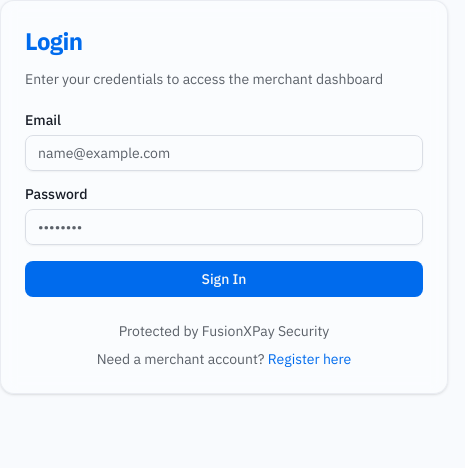
Test: LoginForm › shows validation error for invalid email
Step 1. Type "invalid-email" into the field labelled "Email" → (224,153), box [25, 135, 423, 171]
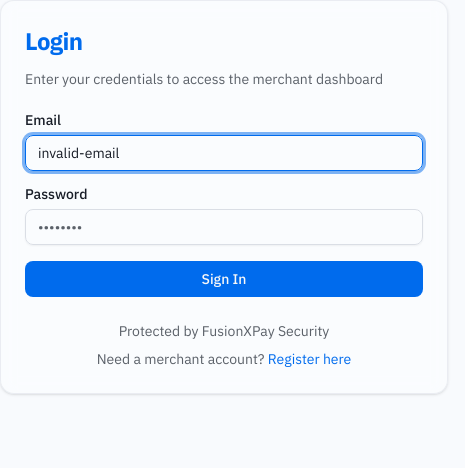
Step 2. Click the button "Sign In" → (224,279), box [25, 261, 423, 297]
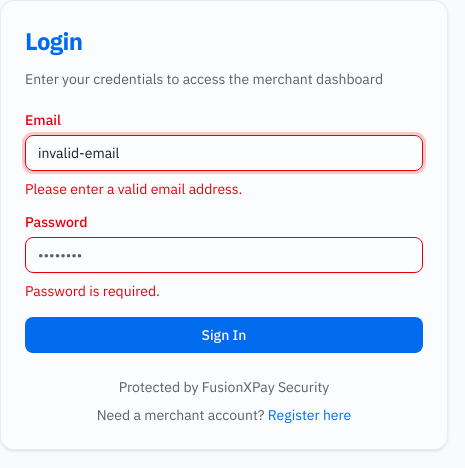
Expected: the text "Please enter a valid email address." is shown, [25, 180, 242, 198]
